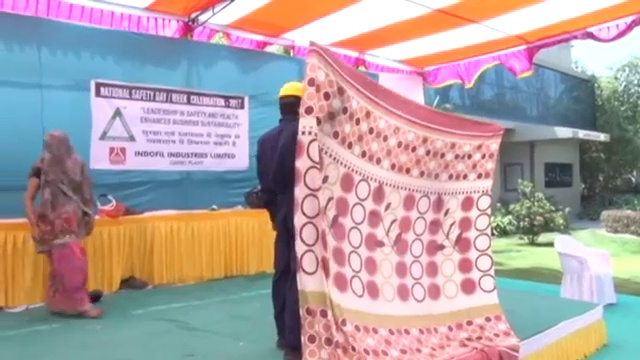helmet: (277, 77, 304, 100)
helmet_off: (42, 127, 75, 162)
helmet_on: (277, 77, 304, 123)
person: (22, 126, 104, 319), (256, 78, 304, 359)
